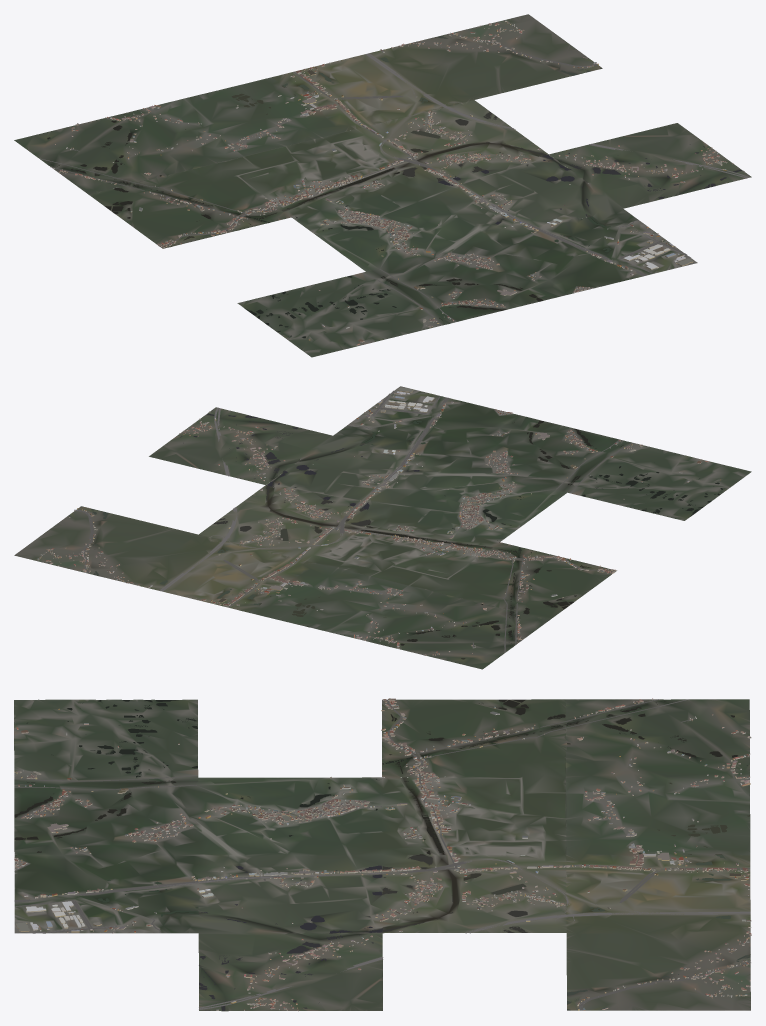
The picture shows the model from 3 angles, top to bottom: view 1: azimuth 30°, elevation 25°; view 2: azimuth 150°, elevation 25°; view 3: azimuth 270°, elevation 25°; orthographic projection. The views are drawn at different scales.
Visible parts, largest first — view 1: ground, buildings, water, roads; view 2: ground, buildings, water, roads; view 3: ground, buildings, water, roads.
Part boxes in pixels (x1,y1,x2,y2): ground: (14,14,751,357); buildings: (53,20,744,345); water: (47,36,748,344); roads: (39,32,749,325); ground: (14,386,751,669); buildings: (37,387,720,655); water: (80,409,722,659); roads: (50,390,632,652); ground: (14,699,750,1011); buildings: (14,698,751,1011); water: (14,699,750,1010); roads: (14,699,750,1010).
Bounding box in the file's own units: 5627 × 29.54 × 5624.
